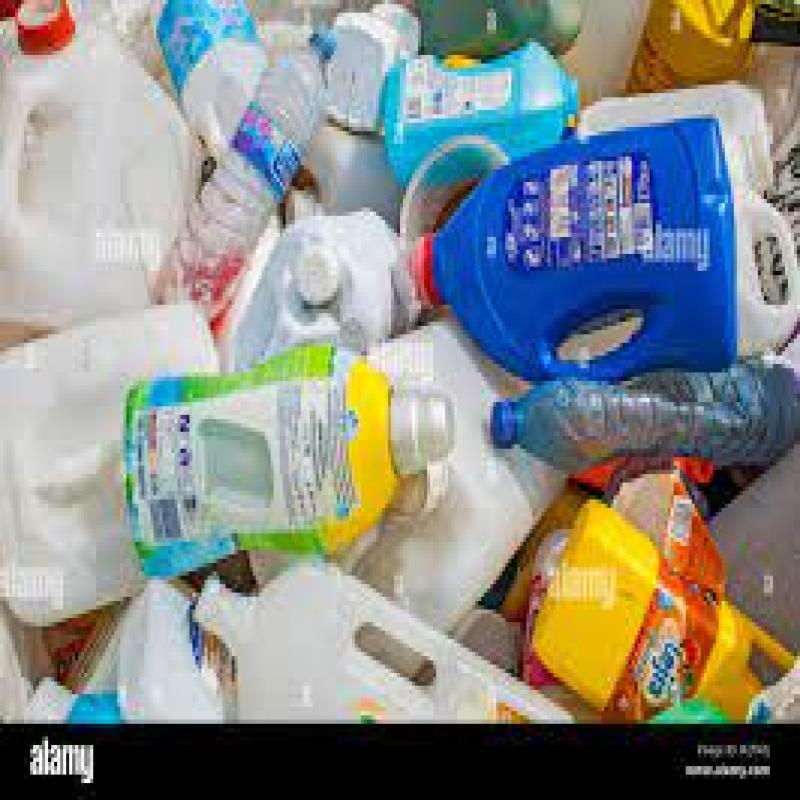botella: (151, 27, 337, 330), (492, 354, 796, 478)
